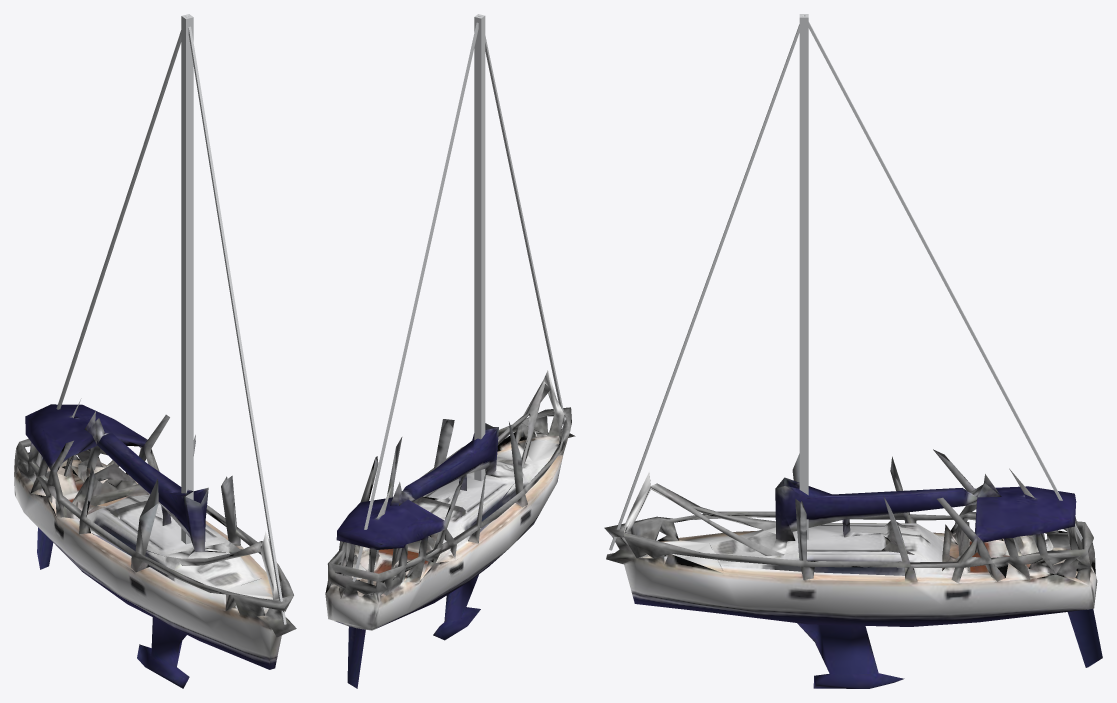
Rendered from boat_cruiser_sail.glb.
The picture shows the model from 3 angles, left to right: view 1: azimuth 30°, elevation 25°; view 2: azimuth 150°, elevation 25°; view 3: azimuth 270°, elevation 25°; orthographic projection. The views are drawn at different scales.
Visible parts, largest first — view 1: boat_cruiser_sail, boat_cruiser_sail_rig; view 2: boat_cruiser_sail, boat_cruiser_sail_rig; view 3: boat_cruiser_sail, boat_cruiser_sail_rig.
Boxes of the visible parts, left/top/right/bottom form: boat_cruiser_sail: left=14, top=398, right=296, bottom=688; boat_cruiser_sail_rig: left=56, top=14, right=286, bottom=624; boat_cruiser_sail: left=325, top=370, right=575, bottom=688; boat_cruiser_sail_rig: left=352, top=14, right=565, bottom=581; boat_cruiser_sail: left=604, top=449, right=1102, bottom=688; boat_cruiser_sail_rig: left=609, top=14, right=1082, bottom=550.
Bounding box in the file's own units: 2.81 × 16.51 × 11.09.
Materials: 2 (1 with a texture image).
